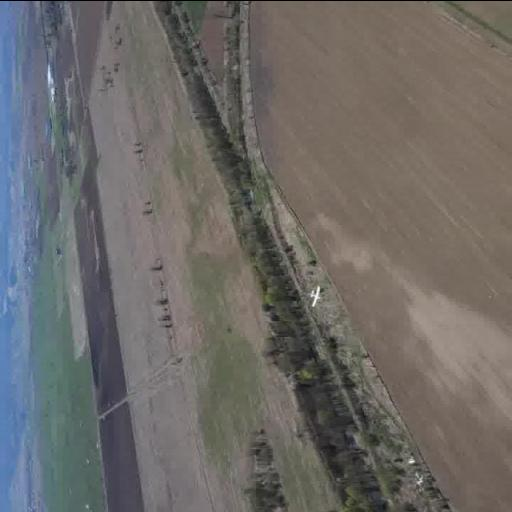uav: (304, 283, 328, 309)
